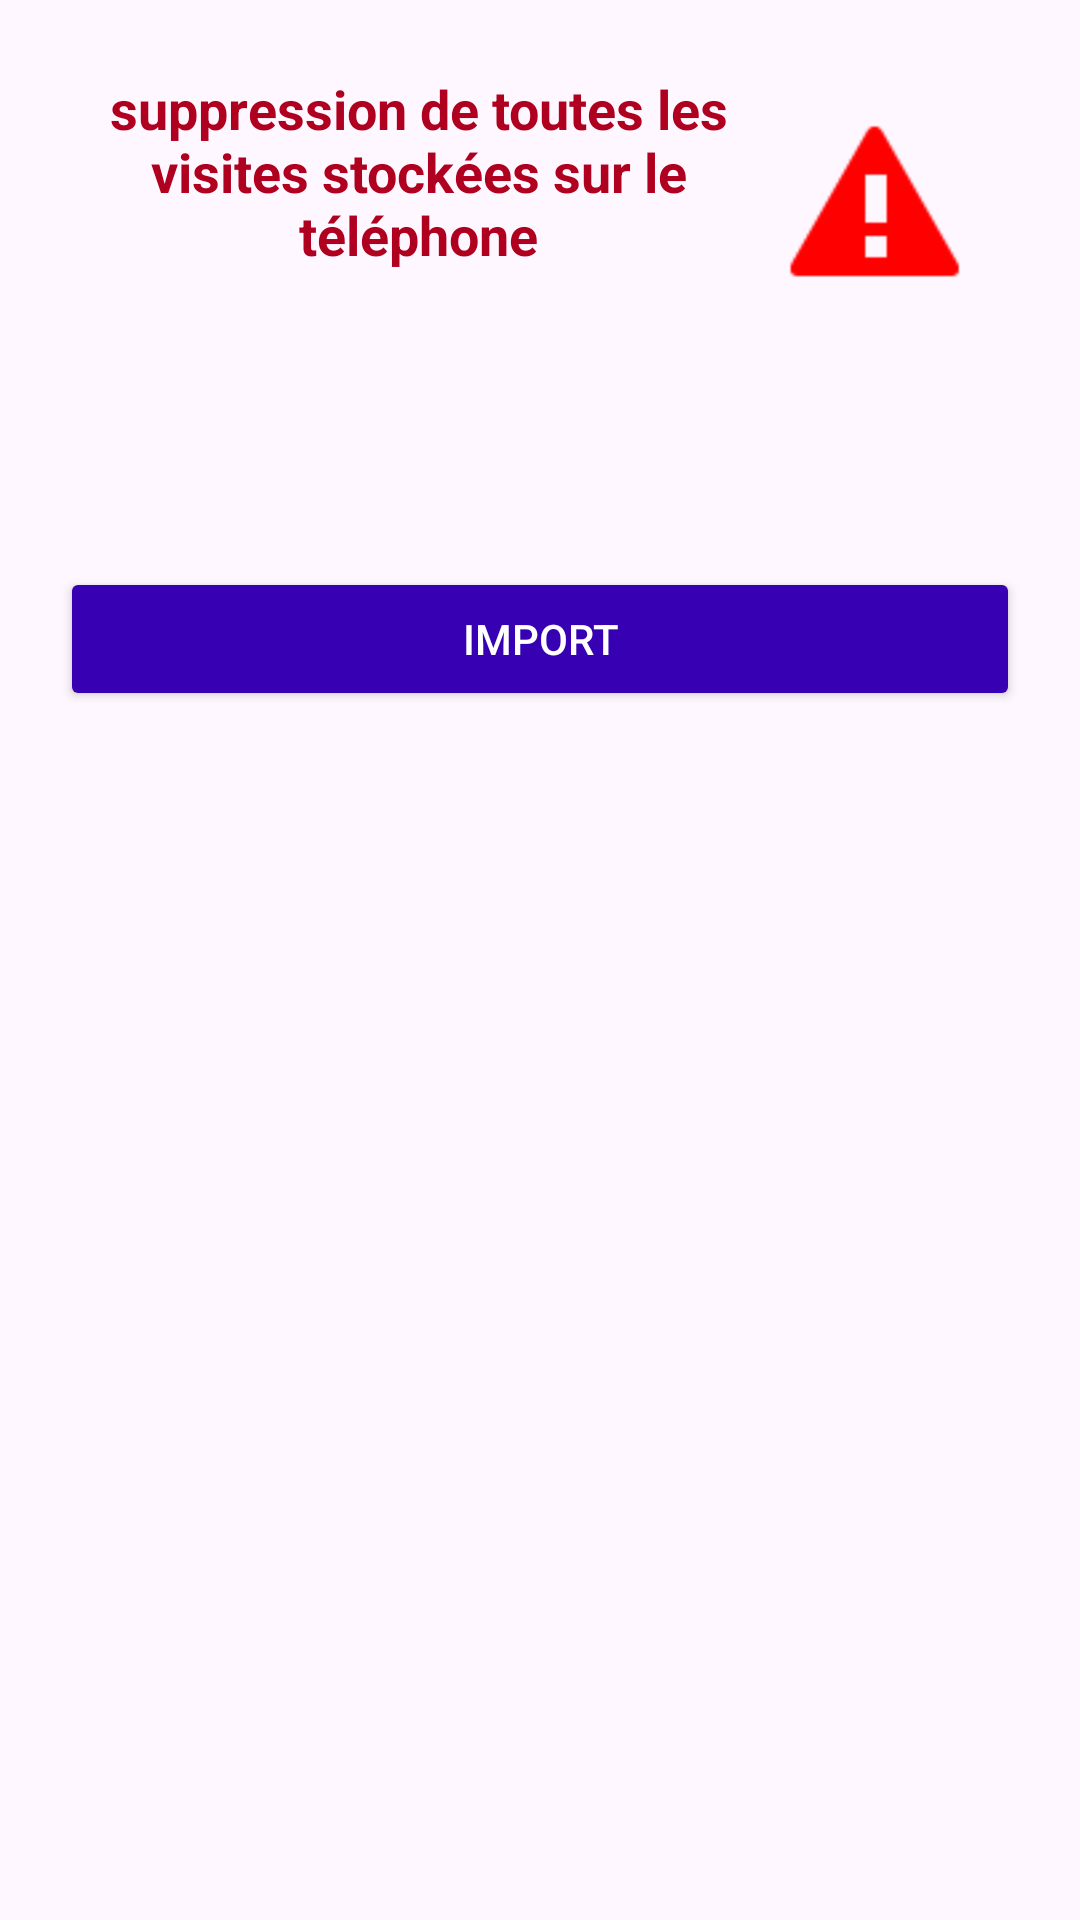

Icon click points for this 1080px x 1920px phone screenshot, format (x=x, y=y):
warning: (x=875, y=201)
